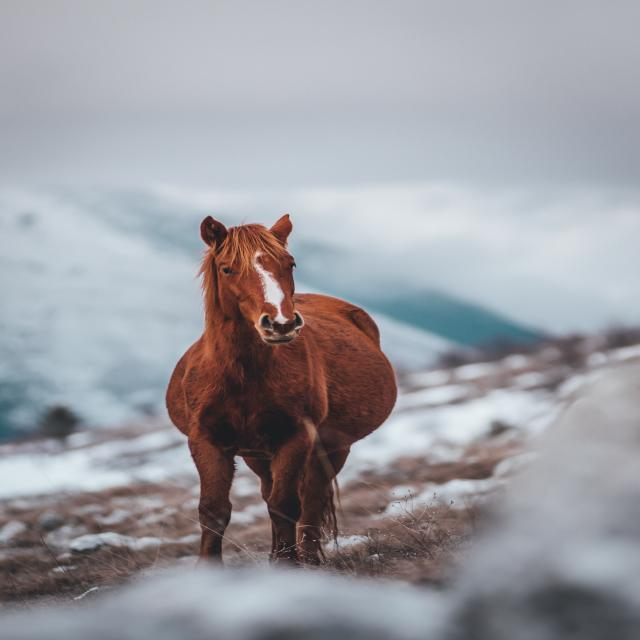animal: (165, 214, 396, 575)
